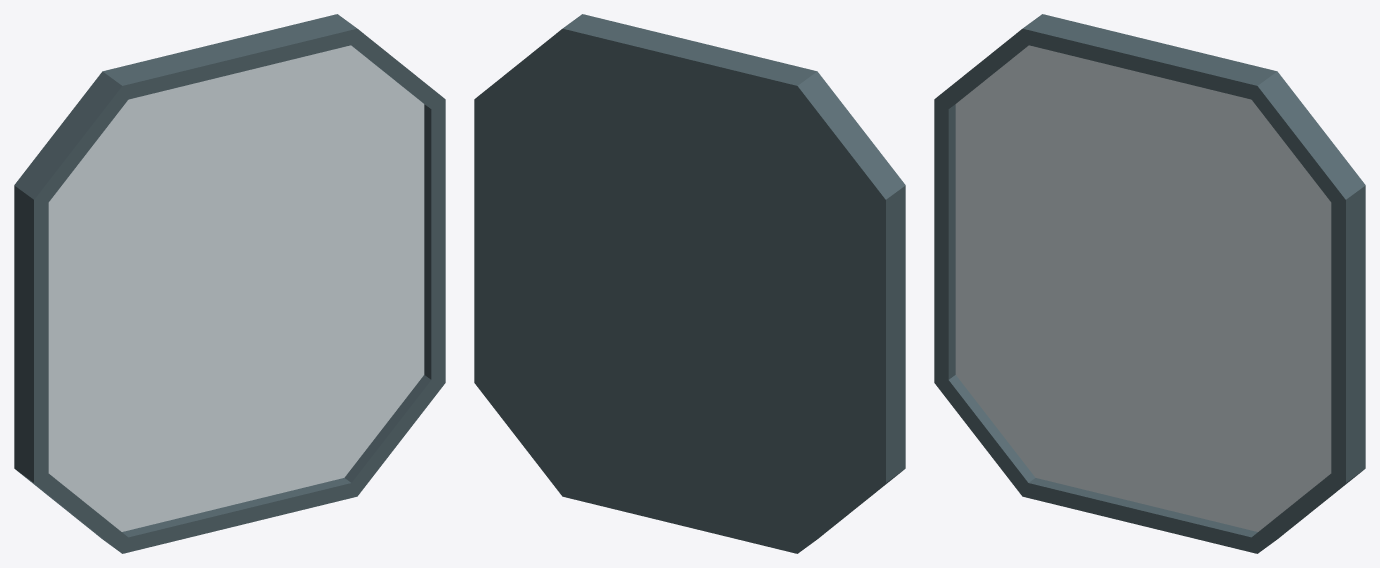
Rendered from Spiegel.fbx.
3 renders of one model, left to right at view 1: azimuth 30°, elevation 25°; view 2: azimuth 150°, elevation 25°; view 3: azimuth 330°, elevation 25°, orthographic.
Parts seen in each view (by area): view 1: Cube; view 2: Cube; view 3: Cube.
Part boxes in pixels (<box>): Cube: <box>14,14,445,553</box>; Cube: <box>474,14,905,553</box>; Cube: <box>934,14,1365,553</box>.
Size of the model in its own units: 308 by 335 by 25.88.
